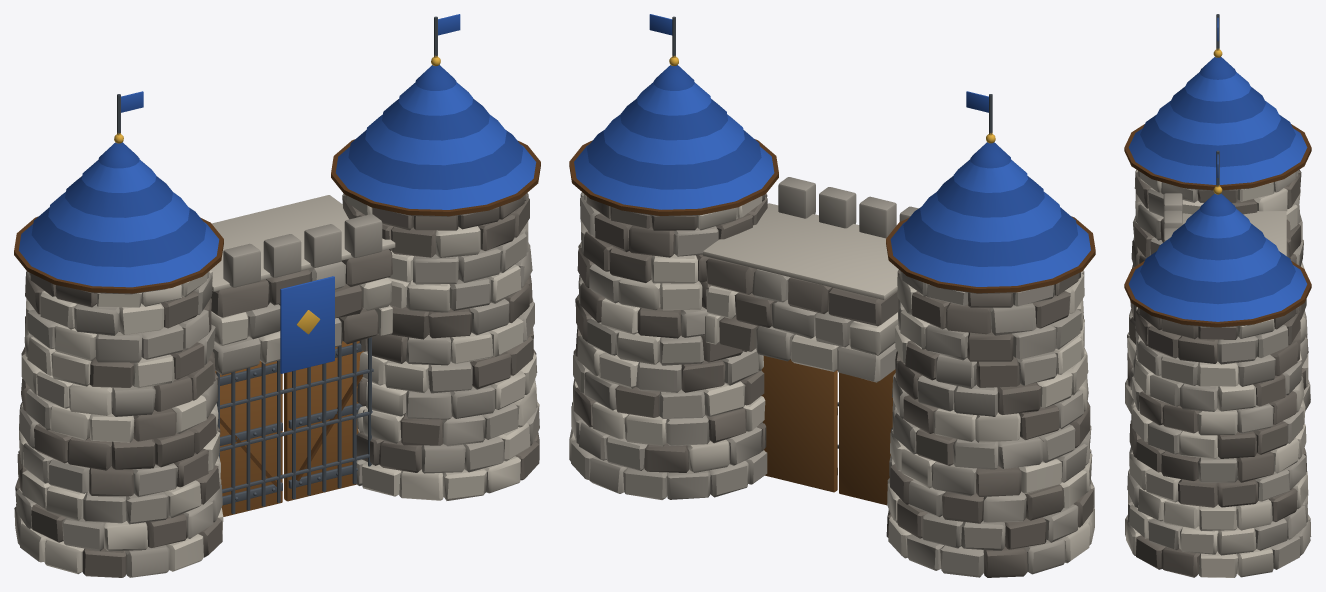
The model's file is brama_etap5.glb.
3 renders of one model, left to right at view 1: azimuth 30°, elevation 25°; view 2: azimuth 150°, elevation 25°; view 3: azimuth 270°, elevation 25°, orthographic. The views are drawn at different scales.
Visible parts, largest first — view 1: brama_etap5; view 2: brama_etap5; view 3: brama_etap5.
Boxes of the visible parts, box(x1,y1,x2,y2) form: brama_etap5: box(14, 14, 540, 577); brama_etap5: box(569, 14, 1095, 577); brama_etap5: box(1124, 14, 1311, 577).
Size of the model in its own units: 14.84 by 12.51 by 5.44.
